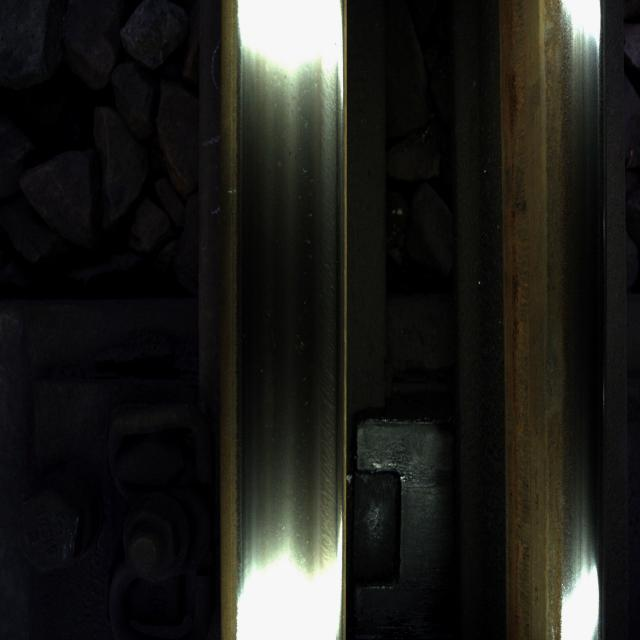break: (244, 18, 328, 622)
